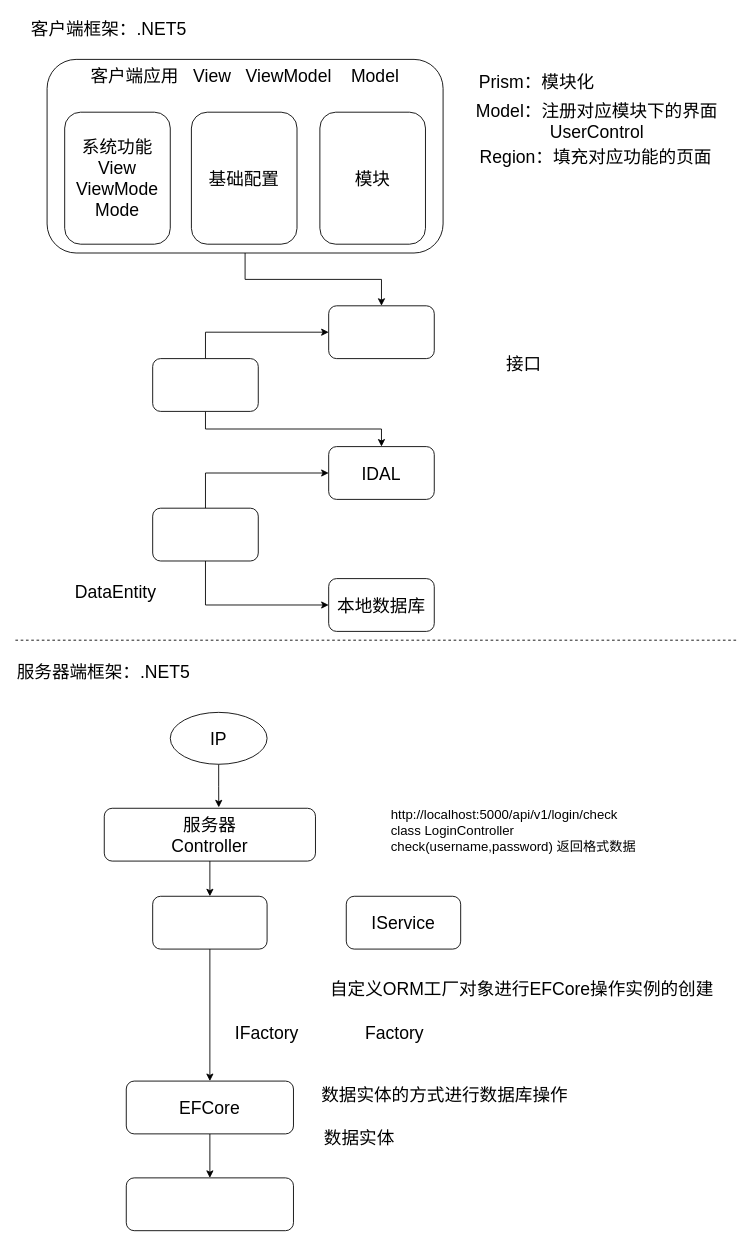
Some shapes in this 753 by 1246 pixel diagram are drawn without their labels. The shapes that lost their labels are listed below. From the top down, each one's box as (x1, y1, x2, y2) in pixels, then its label:
(328, 305, 434, 359): IBLL
(152, 358, 258, 411): BLL
(152, 507, 258, 561): DAL
(152, 895, 267, 949): Service
(125, 1177, 293, 1231): 服务器数据库
